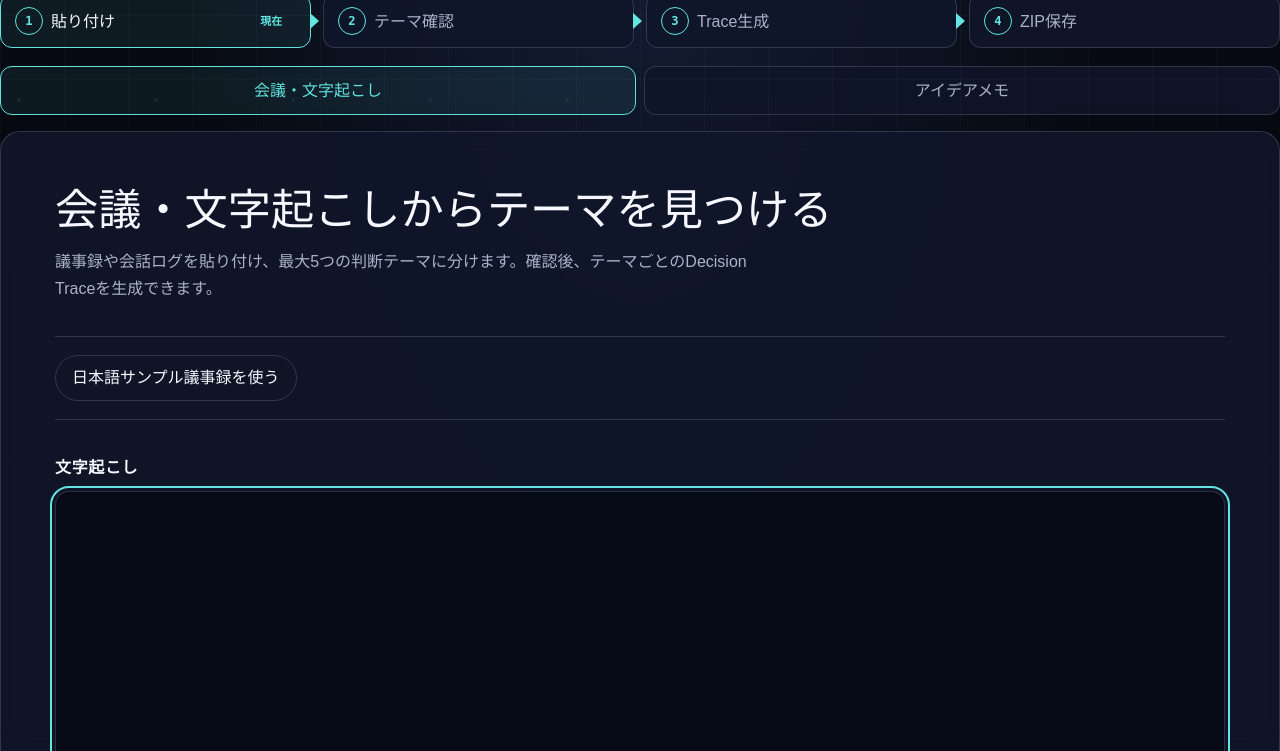
Test: DecisionTraceApp › fills the memo with the public-policy sample
Click the button "アイデアメモ" at coordinates (962, 91), box left=644, top=66, right=1279, bottom=115
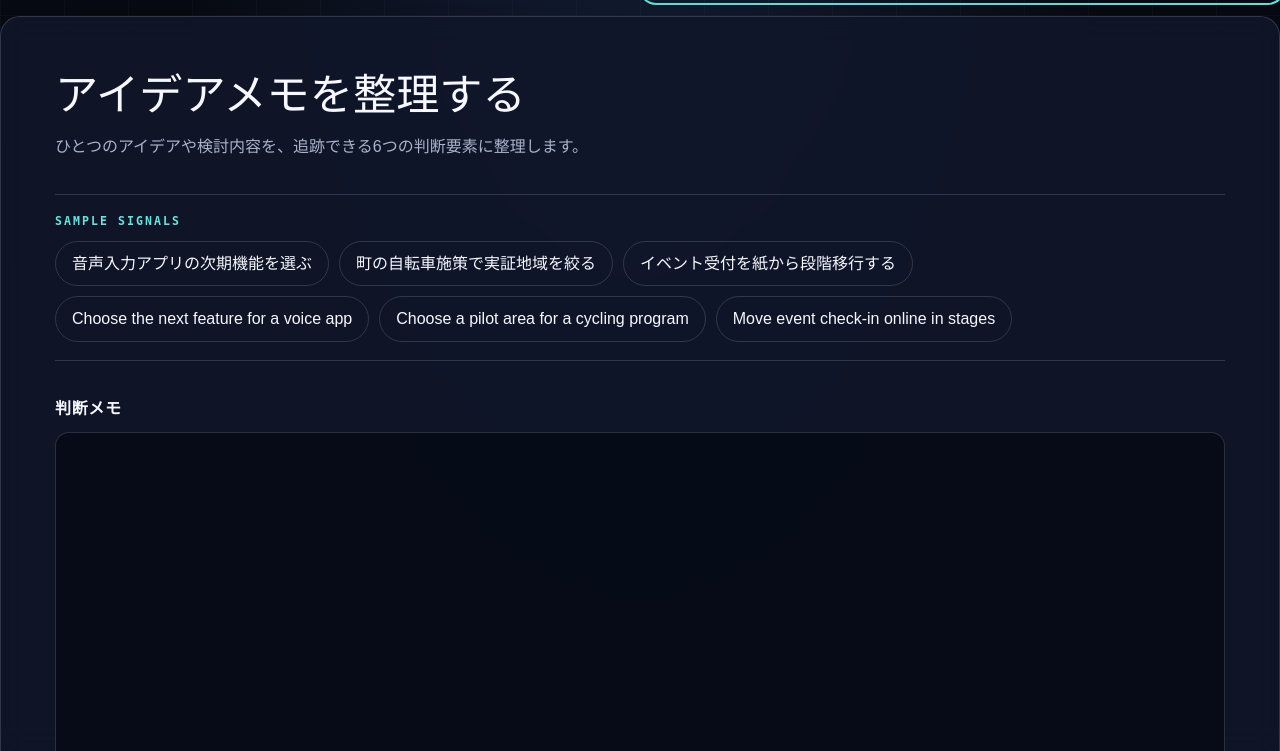
Click the button "町の自転車施策で実証地域を絞る" at coordinates (476, 264), box left=339, top=241, right=613, bottom=286
(page scrolled)
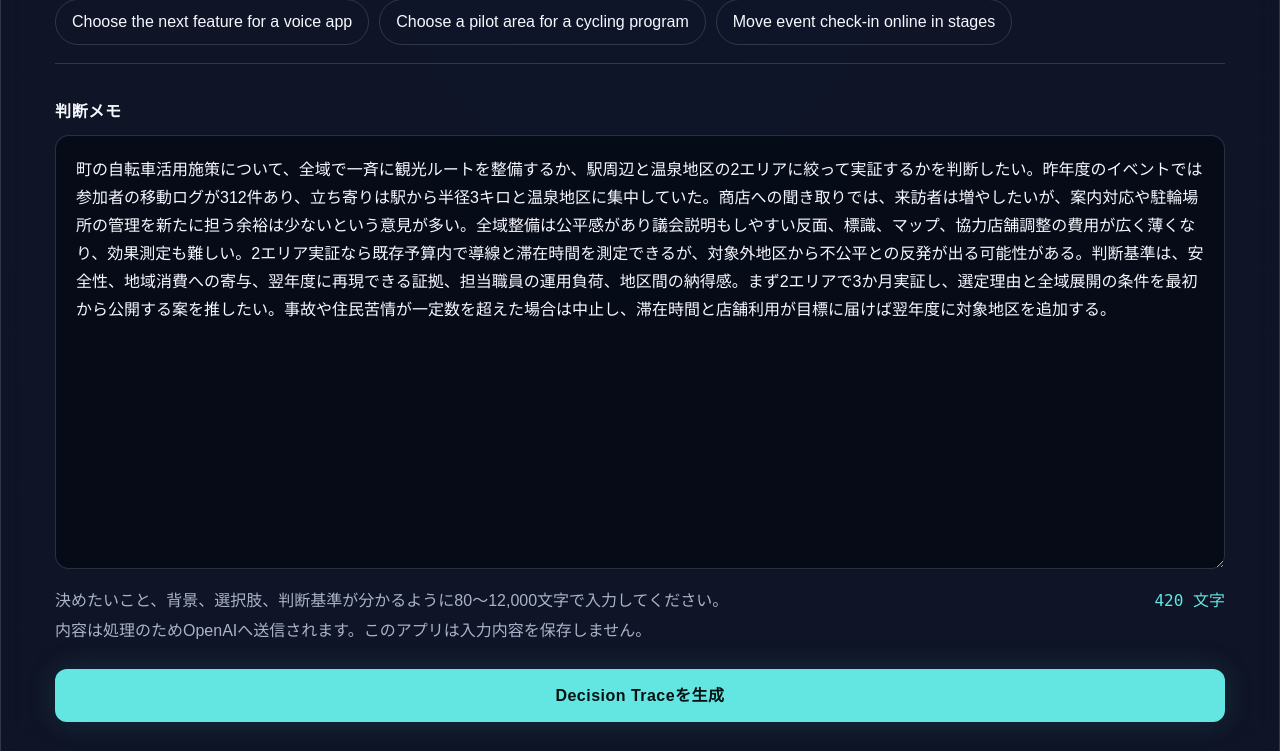
Now the text box labelled "判断メモ" holds "町の自転車活用施策について、全域で一斉に観光ルートを整備するか、駅周辺と温泉地区の2エリアに絞って実証するかを判断したい。昨年度のイベントでは参加者の移動ログが312件あり、立ち寄りは駅から半径3キロと温泉地区に集中していた。商店への聞き取りでは、来訪者は増やしたいが、案内対応や駐輪場所の管理を新たに担う余裕は少ないと", box left=55, top=135, right=1225, bottom=569
